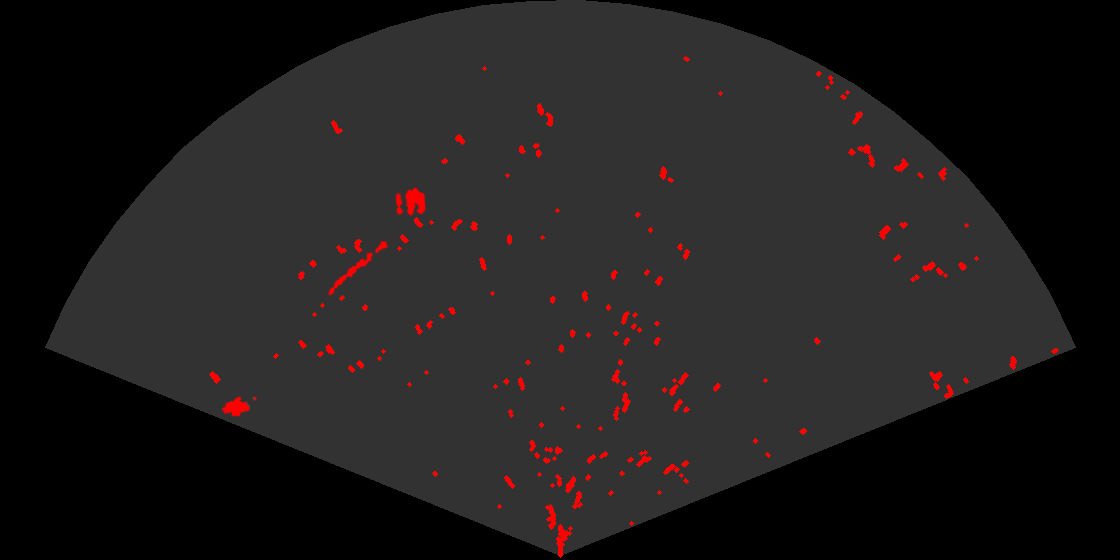AUV: (220, 395, 259, 418)
ball: (394, 186, 428, 218)
chain: (327, 235, 392, 297)
